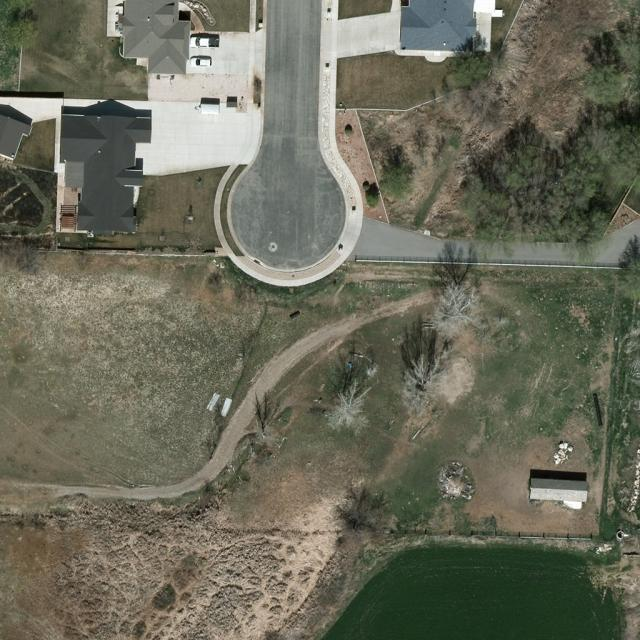vehicle: (190, 38, 220, 48), (188, 58, 213, 66)
